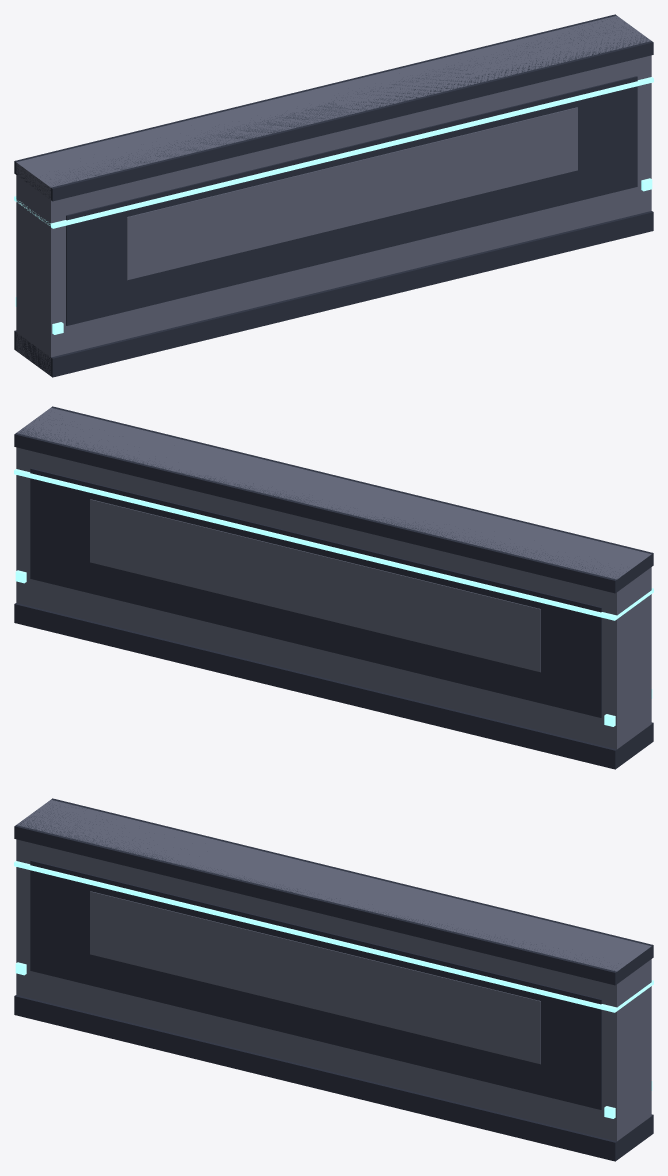
Rendered from SM_Wall_400.fbx.
The picture shows the model from 3 angles, top to bottom: view 1: azimuth 30°, elevation 25°; view 2: azimuth 150°, elevation 25°; view 3: azimuth 330°, elevation 25°; orthographic projection.
Parts seen in each view (by area): view 1: SM_Wall_400; view 2: SM_Wall_400; view 3: SM_Wall_400.
Boxes of the visible parts, x1=… form: SM_Wall_400: x1=14, y1=14, x2=653, y2=377; SM_Wall_400: x1=14, y1=406, x2=653, y2=769; SM_Wall_400: x1=14, y1=798, x2=653, y2=1161.
Bounding box in the file's own units: 45 × 400 × 120.
